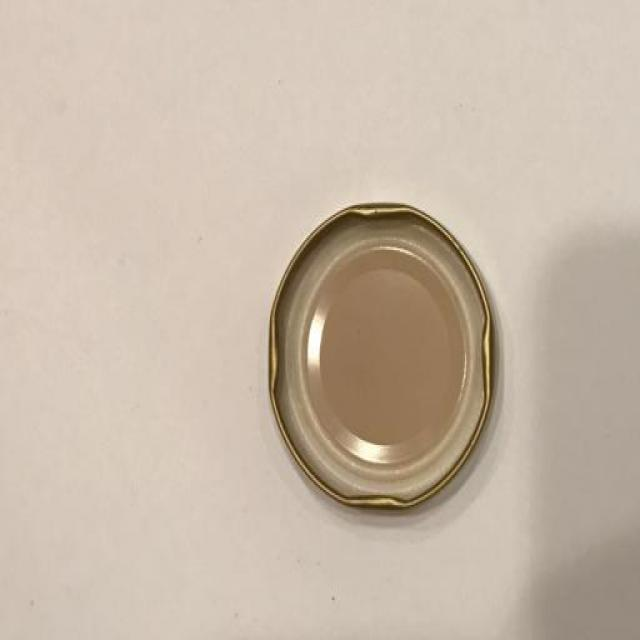metel: (270, 218, 489, 499)
